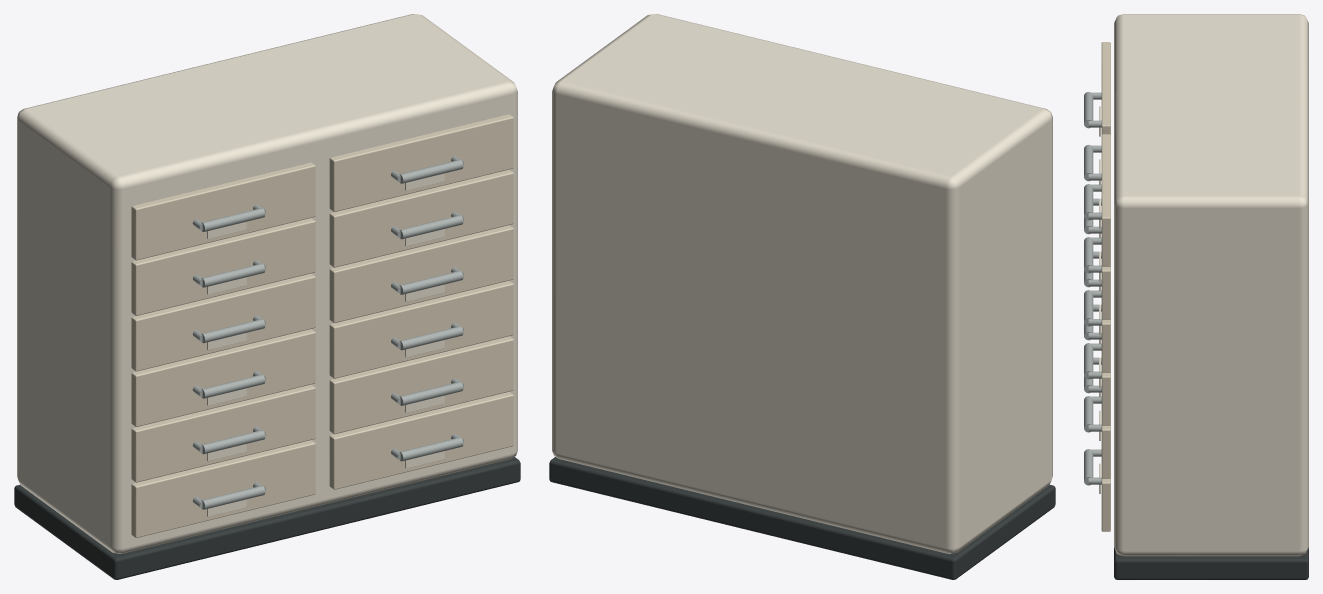
Rendered from museum-conservation-and-art-restoration-museum-conserv-99b452cc__31919.glb.
The picture shows the model from 3 angles, left to right: view 1: azimuth 30°, elevation 25°; view 2: azimuth 150°, elevation 25°; view 3: azimuth 270°, elevation 25°; orthographic projection. The views are drawn at different scales.
Visible parts, largest first — view 1: museum-conservation-and-art-restoration-collections-label-ar (×4); view 2: museum-conservation-and-art-restoration-collections-label-ar (×2); view 3: museum-conservation-and-art-restoration-collections-label-ar (×4).
Part boxes in pixels (x1,y1,x2,y2): museum-conservation-and-art-restoration-collections-label-ar (×4): [14, 14, 520, 579]; museum-conservation-and-art-restoration-collections-label-ar (×2): [549, 14, 1055, 579]; museum-conservation-and-art-restoration-collections-label-ar (×4): [1084, 14, 1308, 579].
Bounding box in the file's own units: 1.15 × 1.08 × 0.577.
